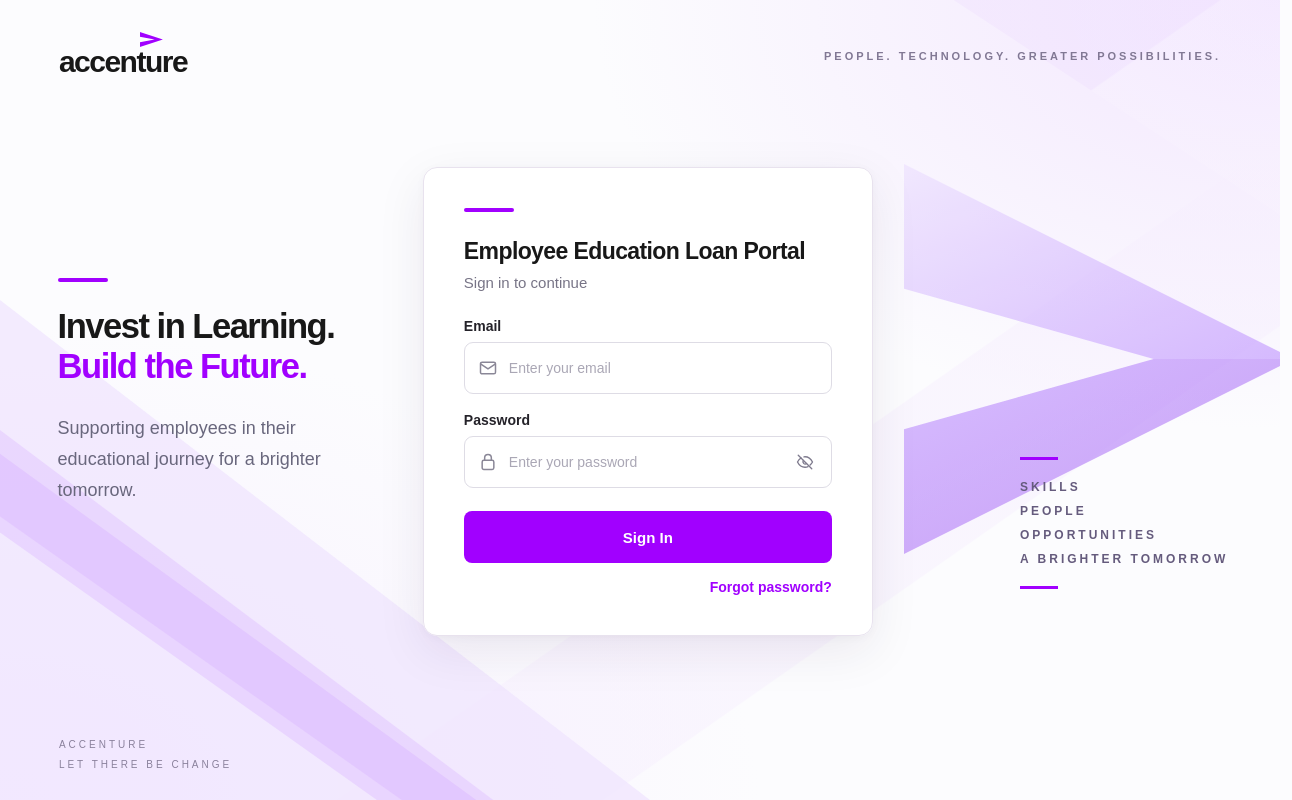
LoginPage › shows validation errors when submitted empty
What coordinates should you click on to do the following:
click the button "Sign In"
I would click on:
 (648, 537)
Its box is [464,511,832,563].
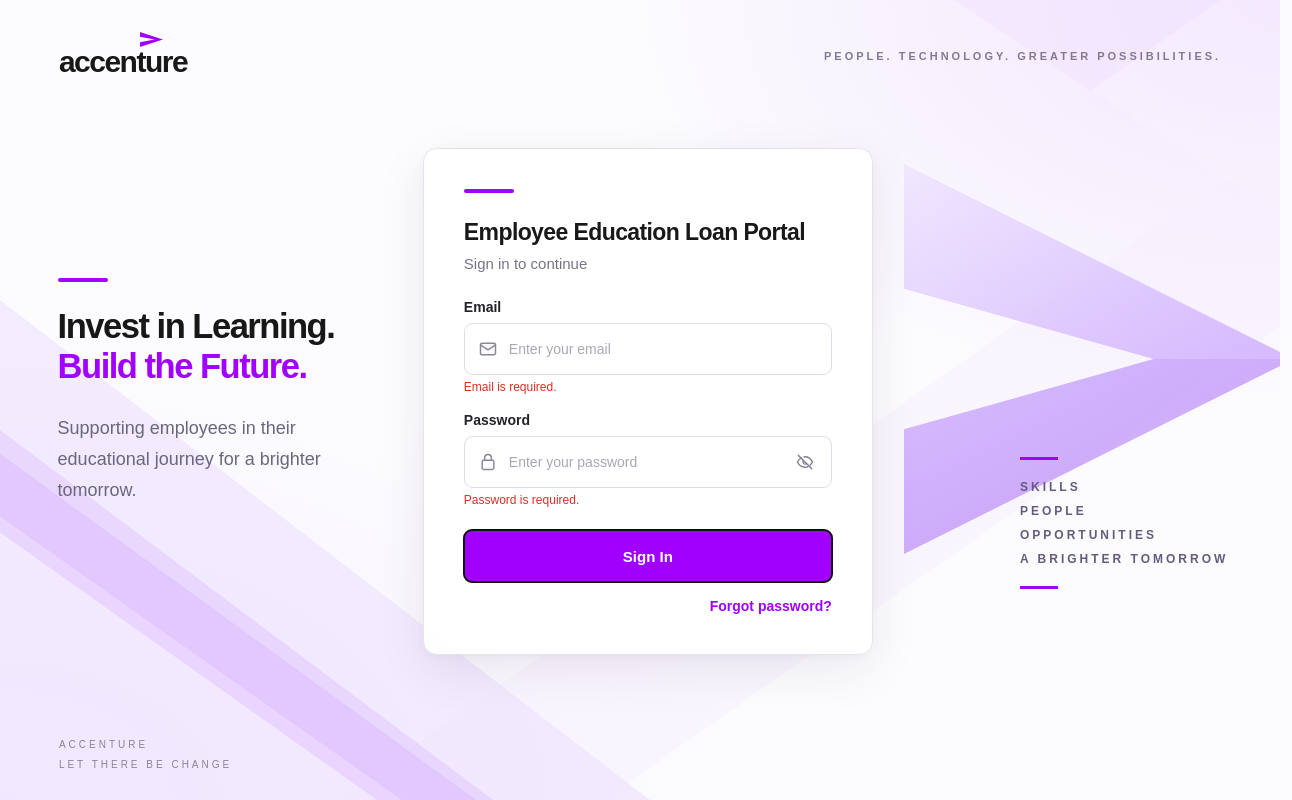
Now the text "Email is required." is shown, box [464,380,556,394]
Now the text "Password is required." is shown, box [464,493,579,507]
